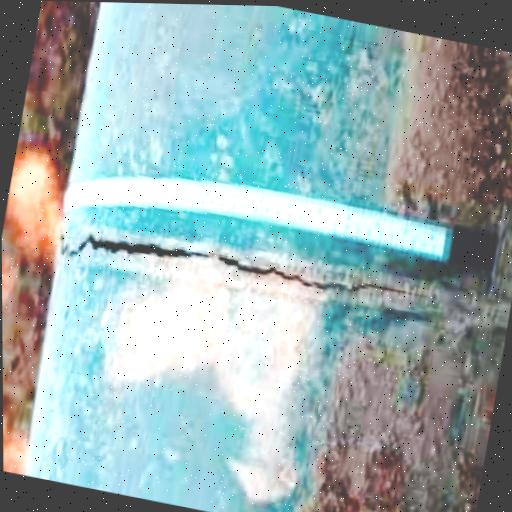crack: (55, 211, 443, 334)
